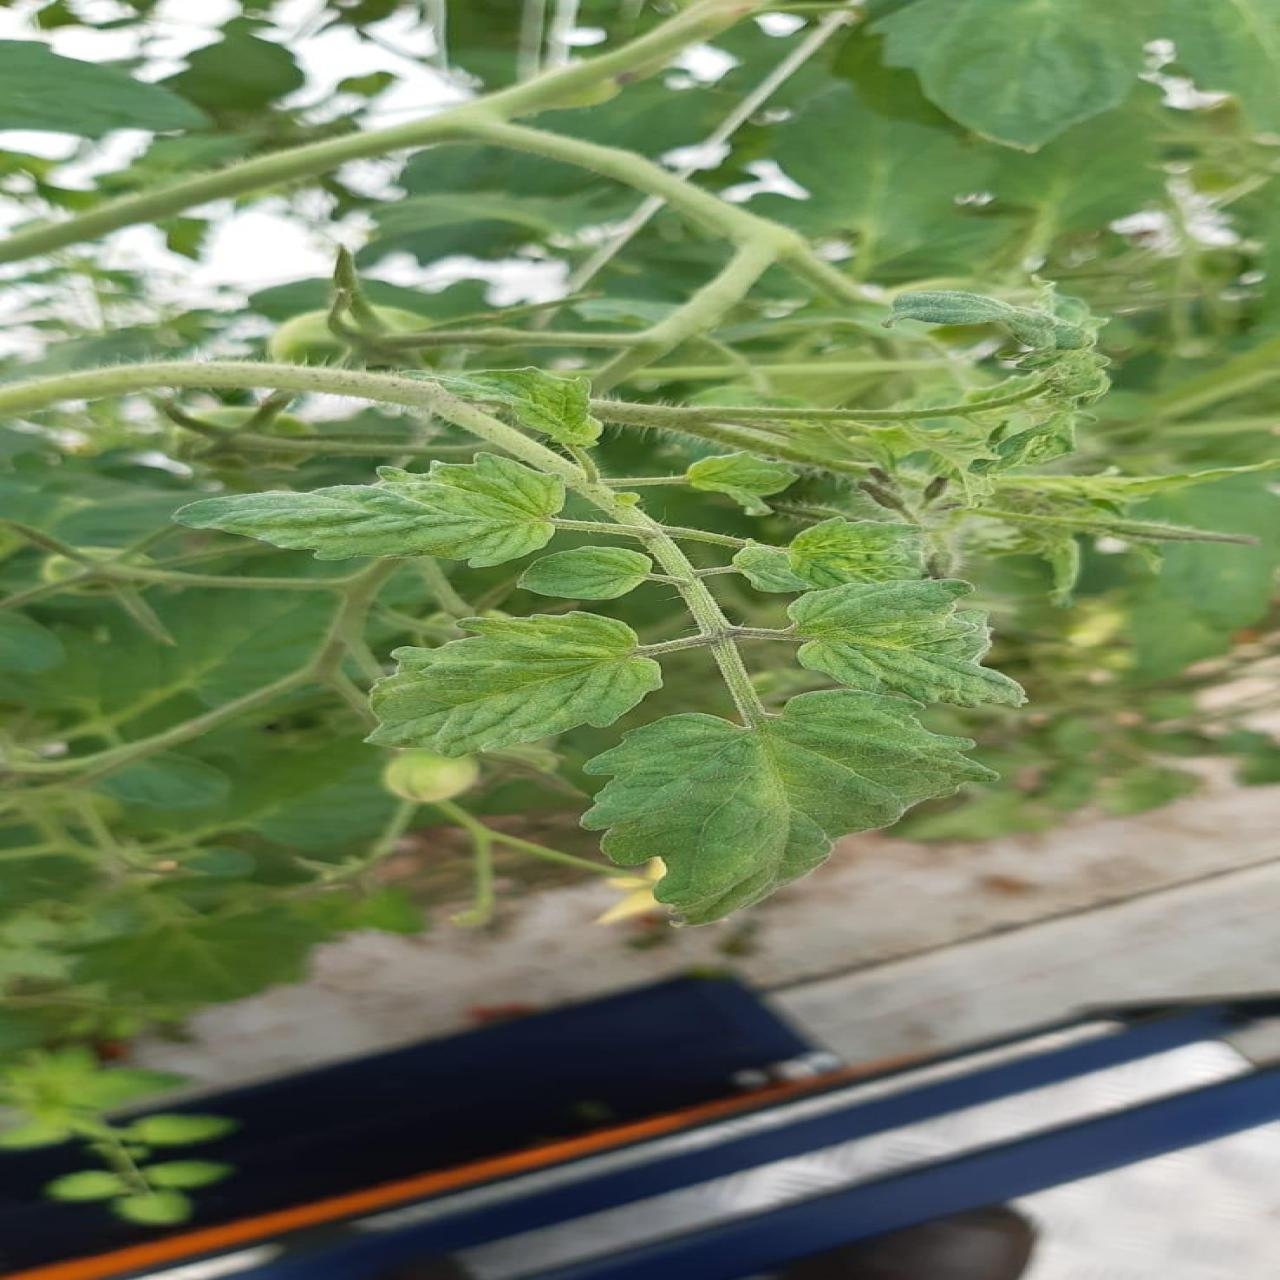T_L_R: (580, 690, 990, 925), (171, 452, 561, 567), (363, 613, 658, 757), (785, 580, 1024, 707), (413, 369, 602, 447), (787, 517, 920, 588), (520, 549, 651, 600)
T_S_R: (1, 365, 597, 493), (591, 386, 1046, 425), (685, 581, 770, 726), (640, 629, 808, 656)
